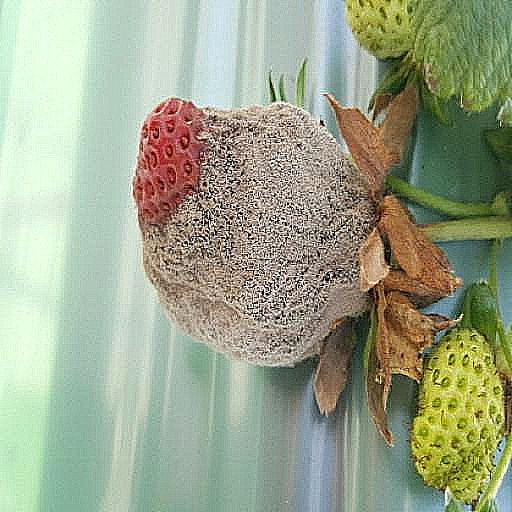Gray Mold: (131, 98, 375, 369)
